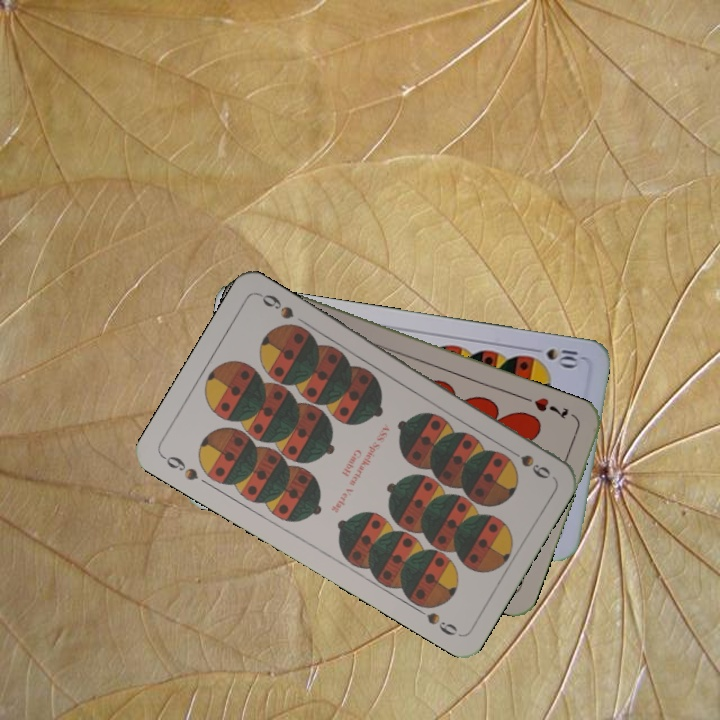H7: (530, 393, 571, 422)
S10: (526, 344, 584, 370)
S9: (501, 443, 553, 482), (158, 451, 201, 483)
